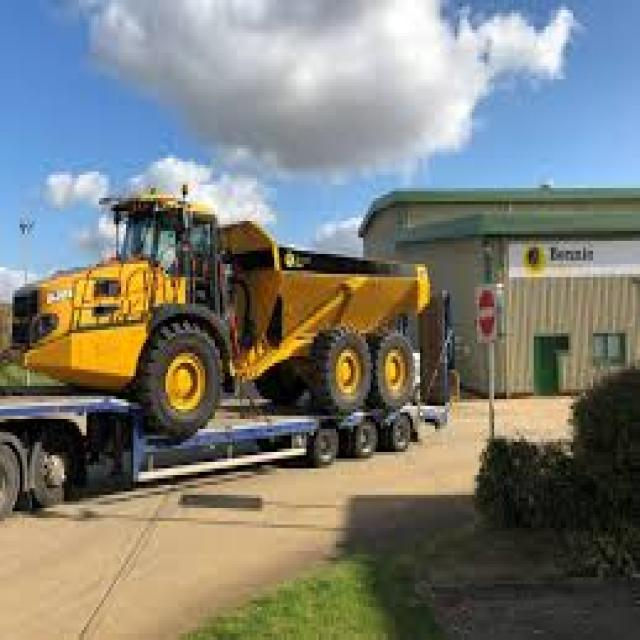dump_truck: (15, 158, 447, 439)
